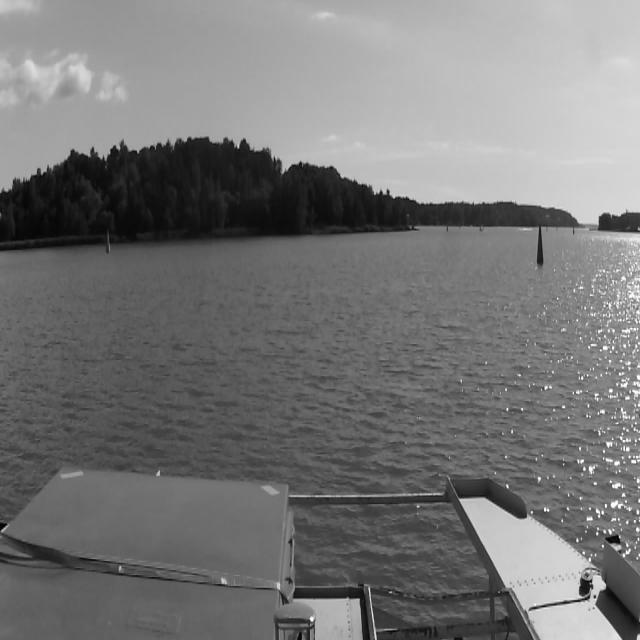buoy: (536, 220, 546, 266), (106, 231, 110, 254), (572, 226, 574, 234)
